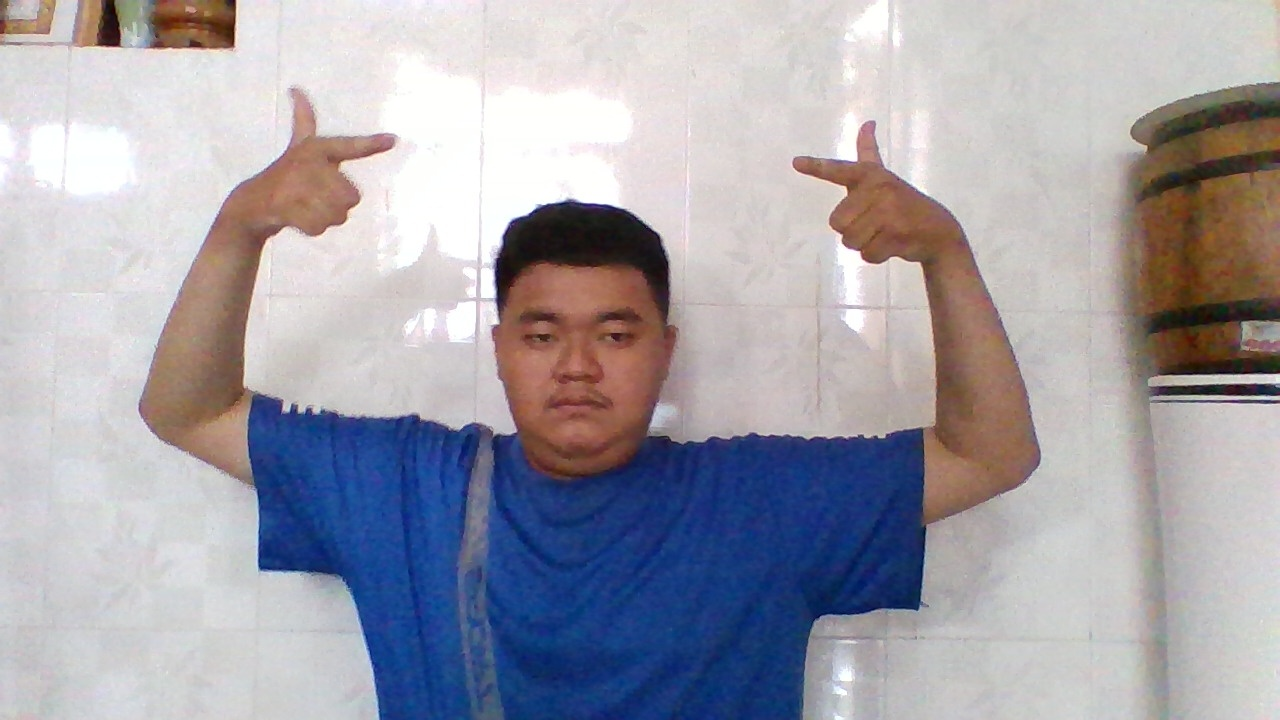G: (222, 77, 407, 246), (780, 110, 963, 271)
